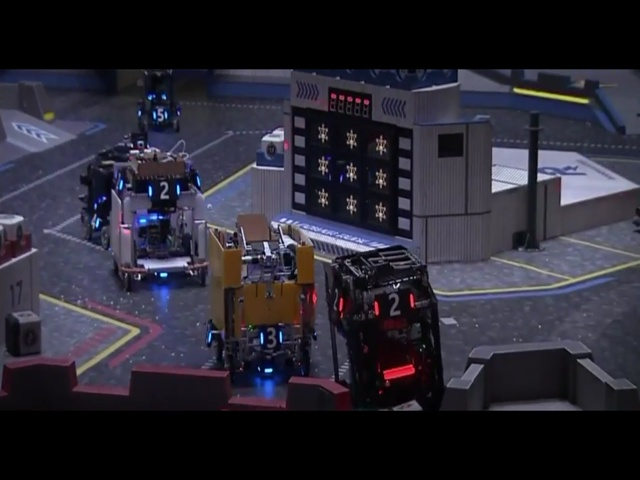bluePlate: (144, 180, 184, 202), (253, 325, 287, 349), (109, 167, 132, 193), (150, 105, 171, 128), (202, 320, 216, 352), (86, 211, 106, 231)
redPlate: (371, 294, 415, 319), (330, 286, 347, 321)
